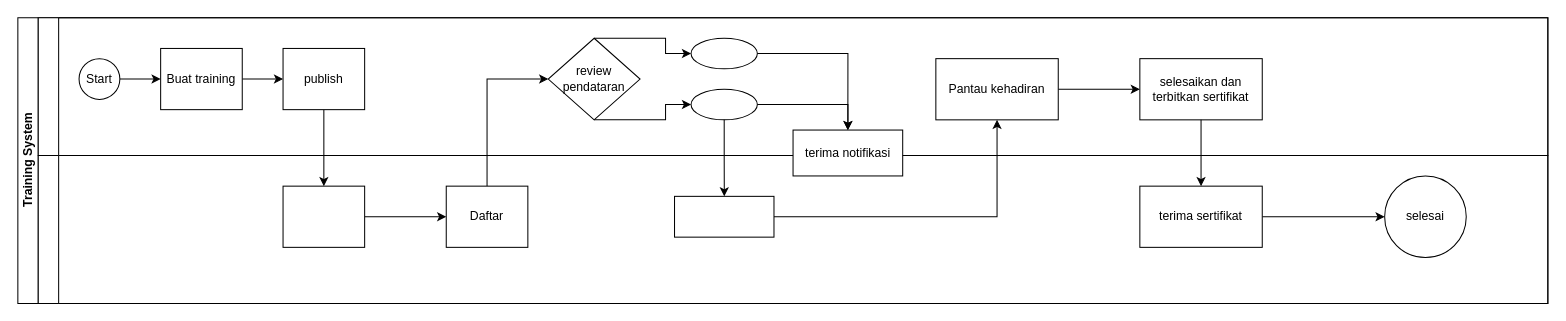
Some shapes in this 1566 by 321 pixel diagram are drawn without their labels. Here are the shapes that lost their labels. From the top down, the box of each, then its label:
(690, 37, 757, 69): Reject
(690, 88, 757, 120): Accept
(37, 17, 1548, 156): Admin
(282, 185, 365, 247): Lihat daftar training
(674, 195, 774, 237): Hadir di training
(37, 155, 1548, 303): User
